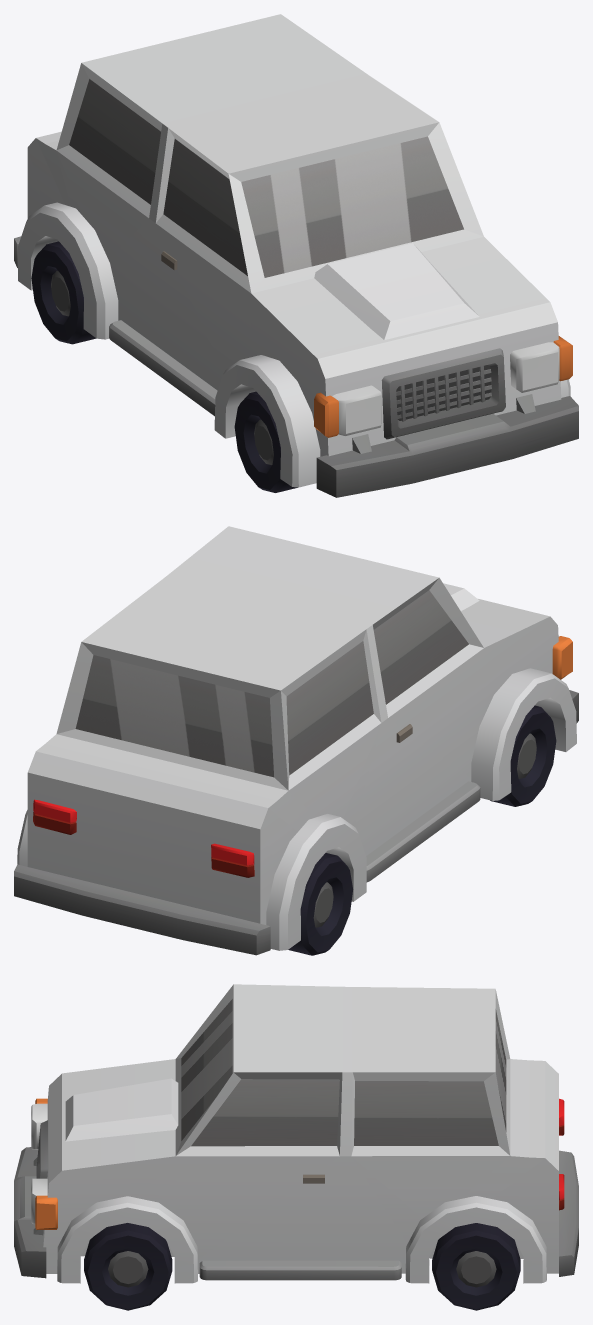
Rendered from Car_3_5.fbx.
The picture shows the model from 3 angles, top to bottom: view 1: azimuth 30°, elevation 25°; view 2: azimuth 150°, elevation 25°; view 3: azimuth 270°, elevation 25°; orthographic projection. The views are drawn at different scales.
Visible parts, largest first — view 1: Car_3_5, Wheel_Br, Wheel_Fr; view 2: Car_3_5, Wheel_Br, Wheel_Fr; view 3: Car_3_5, Wheel_Bl, Wheel_Fl.
Boxes of the visible parts, bbox=[...] form: Car_3_5: bbox=[14, 14, 578, 497]; Wheel_Br: bbox=[31, 241, 96, 344]; Wheel_Fr: bbox=[234, 391, 297, 492]; Car_3_5: bbox=[14, 526, 578, 955]; Wheel_Br: bbox=[288, 853, 353, 955]; Wheel_Fr: bbox=[490, 705, 556, 806]; Car_3_5: bbox=[14, 984, 578, 1283]; Wheel_Bl: bbox=[432, 1223, 520, 1310]; Wheel_Fl: bbox=[84, 1223, 172, 1310].
Bounding box in the file's own units: 1.13 × 1.02 × 2.3.
